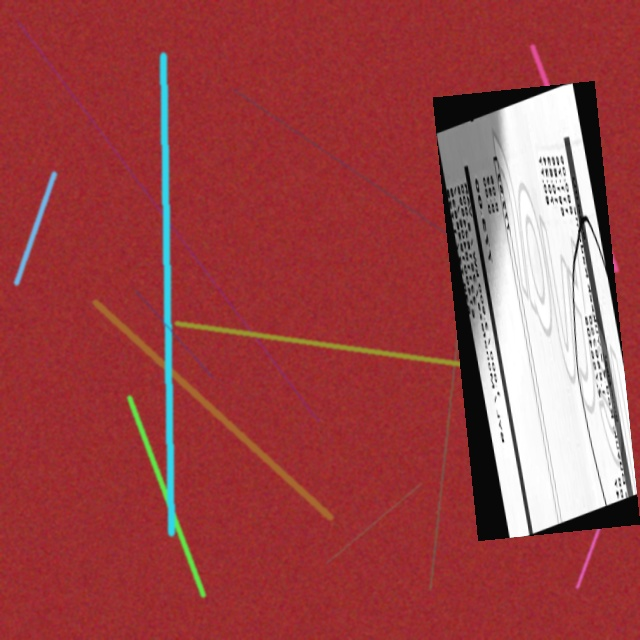electricity-bill: (433, 80, 639, 540)
